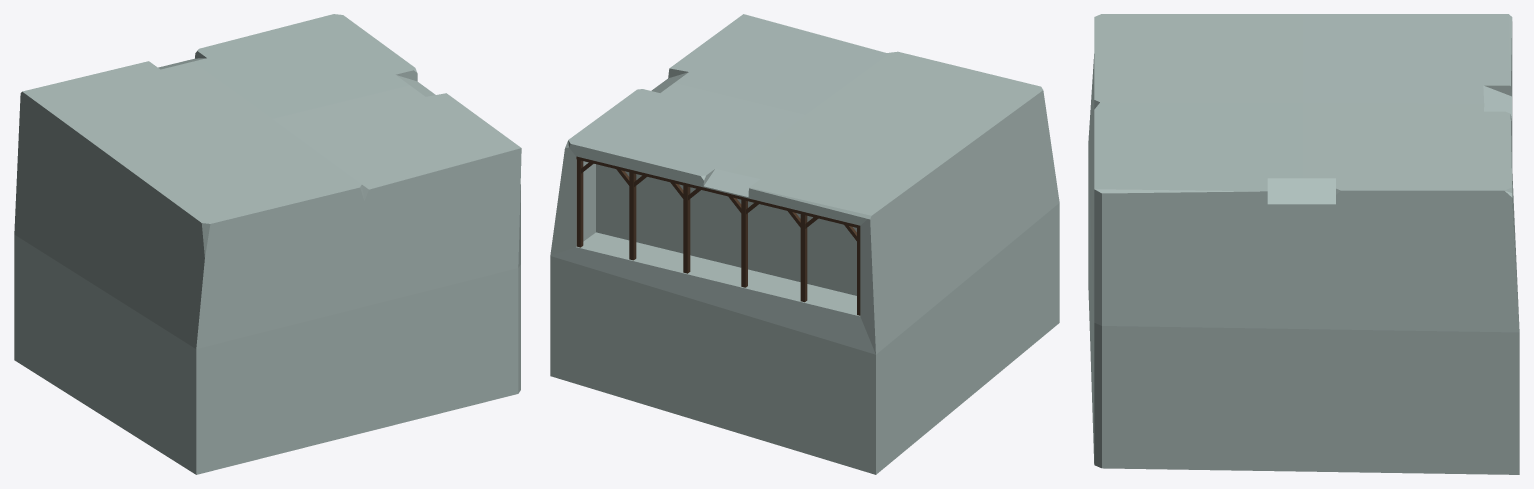
Rendered from Base_shop.fbx.
3 renders of one model, left to right at view 1: azimuth 30°, elevation 25°; view 2: azimuth 150°, elevation 25°; view 3: azimuth 270°, elevation 25°, orthographic. The views are drawn at different scales.
Visible parts, largest first — view 1: Base_shop; view 2: Base_shop; view 3: Base_shop.
Part boxes in pixels (left/top/right/bottom): Base_shop: left=14, top=14, right=521, bottom=474; Base_shop: left=550, top=14, right=1059, bottom=474; Base_shop: left=1088, top=14, right=1519, bottom=474.
Size of the model in its own units: 1461 by 1094 by 1406.
